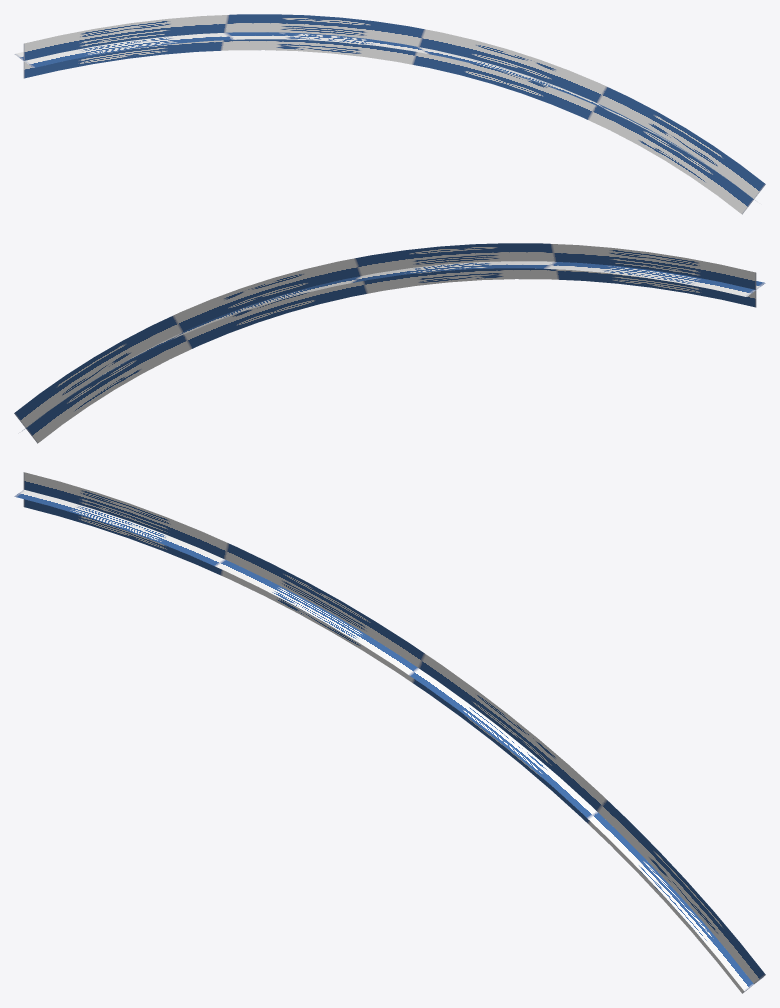
Rendered from Ne_Spl_Line_01.fbx.
3 views of the same model, one above another, from view 1: azimuth 30°, elevation 25°; view 2: azimuth 150°, elevation 25°; view 3: azimuth 330°, elevation 25° (orthographic).
Parts seen in each view (by area): view 1: SM_e_d_P0002_V00_C00_SplBkt_Line_01; view 2: SM_e_d_P0002_V00_C00_SplBkt_Line_01; view 3: SM_e_d_P0002_V00_C00_SplBkt_Line_01.
Part boxes in pixels (x1,y1,x2,y2): SM_e_d_P0002_V00_C00_SplBkt_Line_01: [14, 14, 765, 214]; SM_e_d_P0002_V00_C00_SplBkt_Line_01: [14, 243, 765, 443]; SM_e_d_P0002_V00_C00_SplBkt_Line_01: [14, 472, 765, 993].
Bounding box in the file's own units: 89.77 × 40.04 × 4.04.
